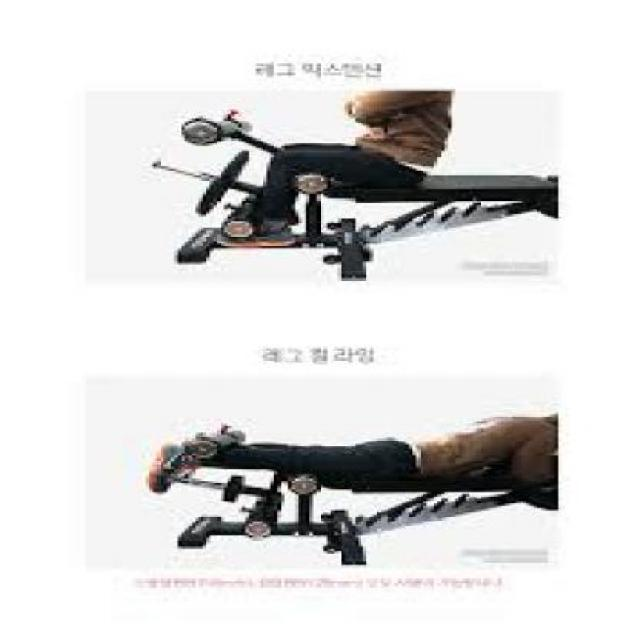reg curl machine: (135, 405, 557, 563)
